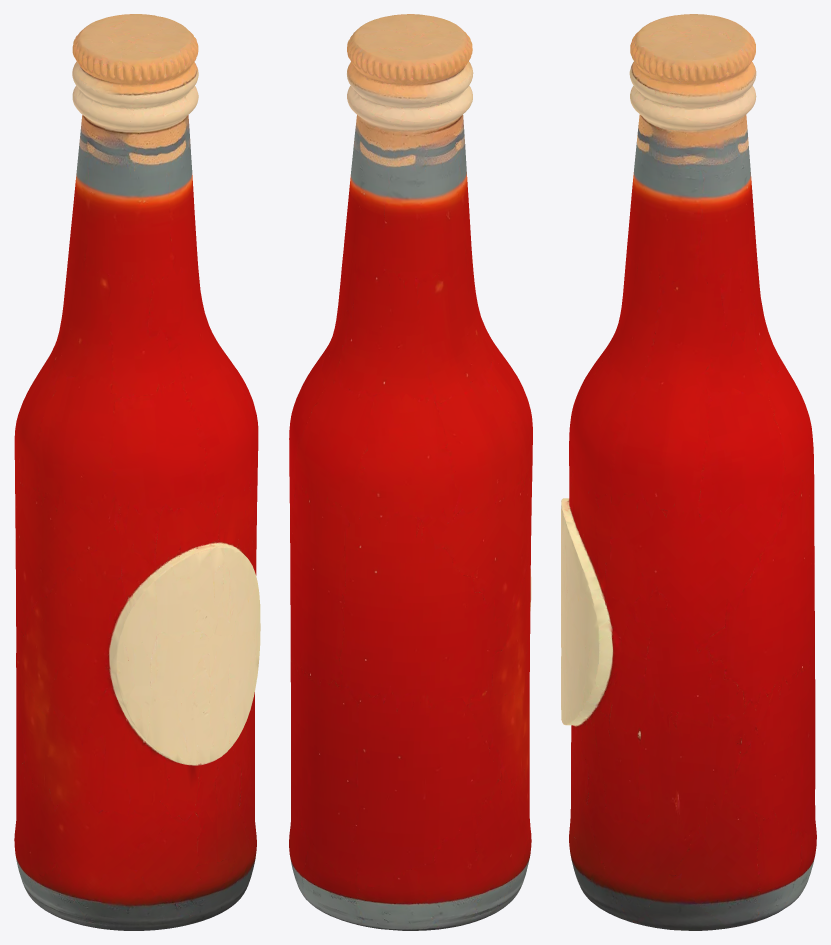
File: kitchen-hot-sauce-04.glb
3 renders of one model, left to right at view 1: azimuth 30°, elevation 25°; view 2: azimuth 150°, elevation 25°; view 3: azimuth 270°, elevation 25°, orthographic.
Bounding box in the file's own units: 0.4914 × 1.9 × 0.5165.
Materials: 1 (1 with a texture image).
